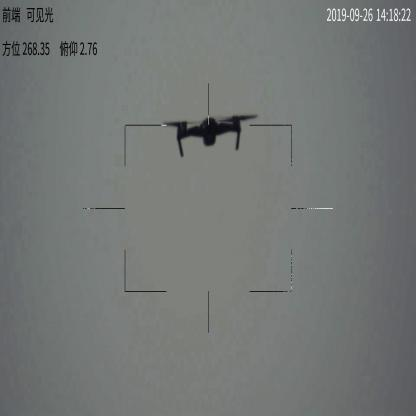uav: (161, 110, 259, 160)
